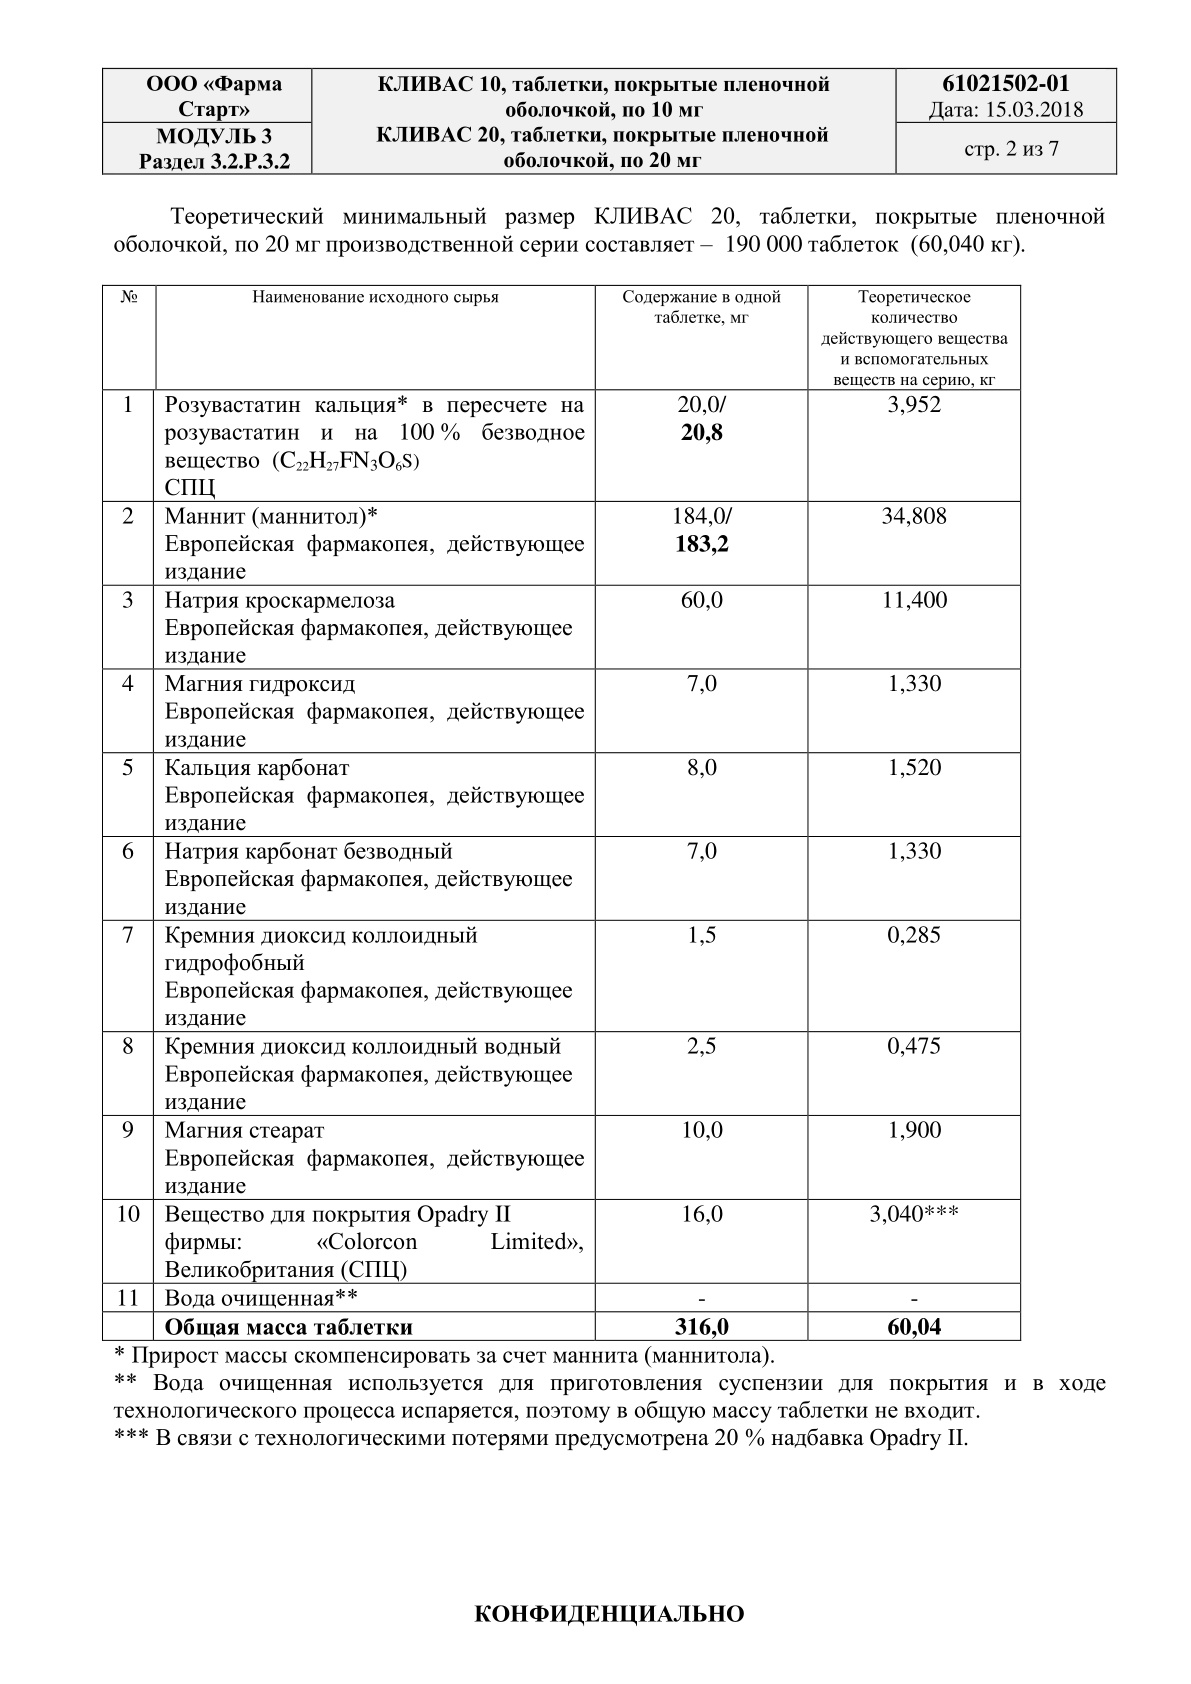full_lined: (101, 283, 1022, 1341)
merged_cells: (101, 67, 1118, 175)
